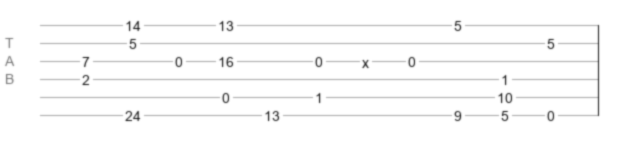0: (175, 54, 183, 64), (222, 90, 230, 100), (315, 54, 323, 64), (408, 54, 416, 64), (547, 108, 555, 118)
1: (315, 90, 323, 100), (501, 72, 509, 82)
10: (497, 90, 513, 100)
13: (218, 18, 234, 28), (264, 108, 280, 118)
14: (125, 18, 141, 28)
16: (218, 54, 234, 64)
2: (82, 72, 90, 82)
24: (125, 108, 141, 118)
5: (129, 36, 137, 46), (454, 18, 462, 28), (501, 108, 509, 118), (547, 36, 555, 46)
7: (82, 54, 90, 64)
9: (454, 108, 462, 118)
x: (362, 55, 369, 63)
